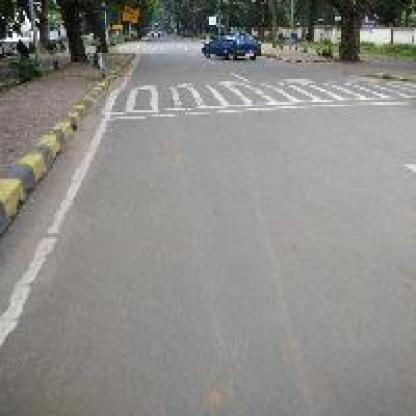Speed Bump: (108, 77, 412, 114)
